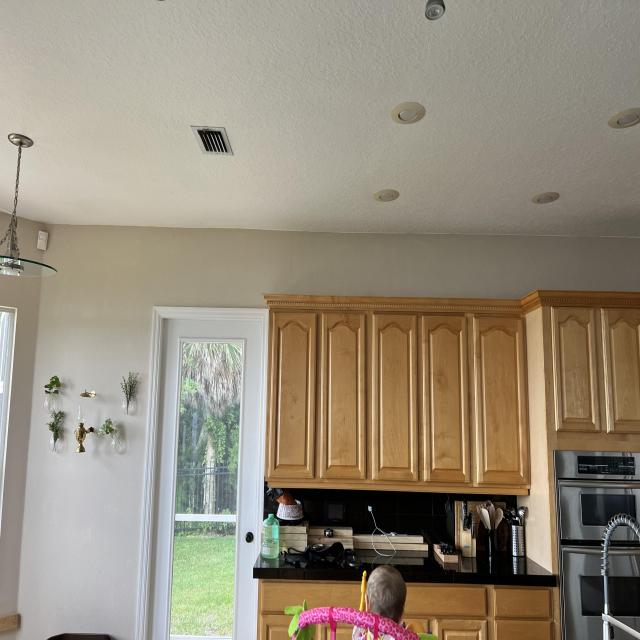Appliance_Oven: (554, 450, 640, 640)
Appliance_Sink: (602, 513, 640, 640)
Cabinet_Flat: (406, 583, 556, 640), (261, 581, 361, 612)
Cabinet_Raised_Panel: (267, 291, 640, 498), (264, 615, 355, 640), (404, 614, 485, 640)
Countertop_Solid_Surface: (252, 540, 558, 584)
